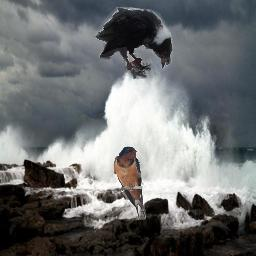Crow: (95, 7, 173, 79)
Swallow: (113, 146, 146, 220)
